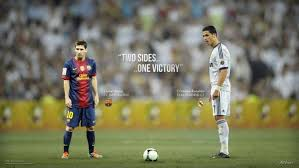barcelona: (56, 39, 109, 161)
realmadrid: (194, 26, 242, 160)
